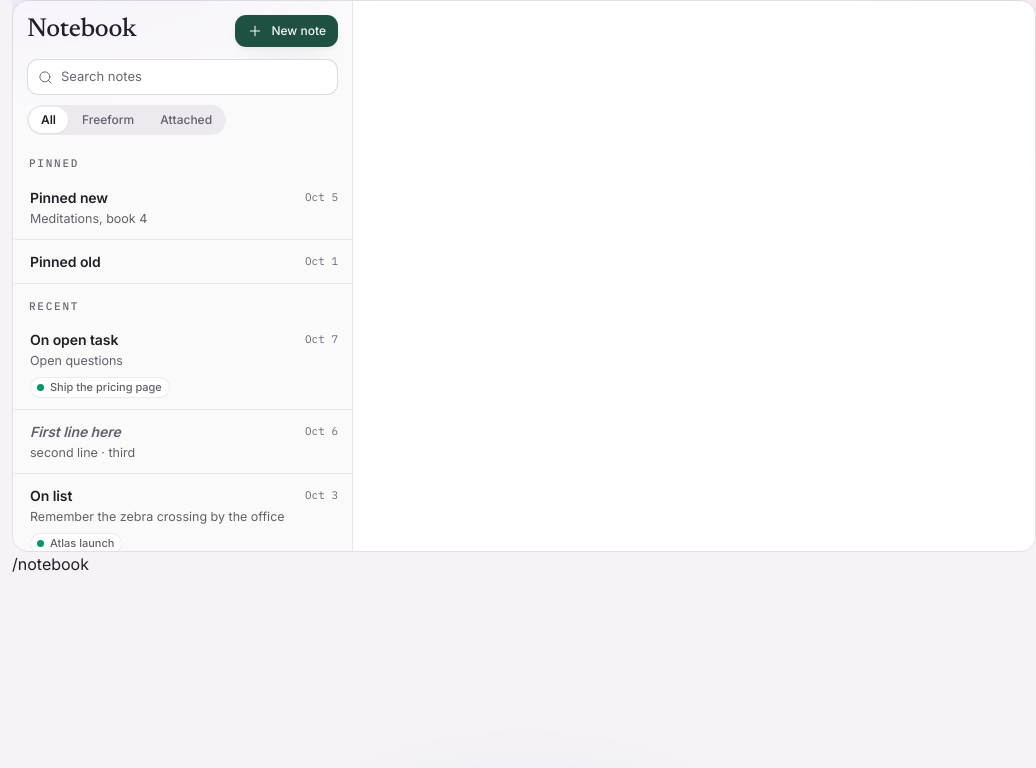
Test: Notebook — list › filters with the All · Freeform · Attached segment, composed with search
Expected: the heading "Notebook" is shown, [27,18,136,44]
Expected: the button with test id "note-row" is shown, [13,176,352,240]
Click the tab "Freeform". click: [108, 120]
box: [70,107,146,133]
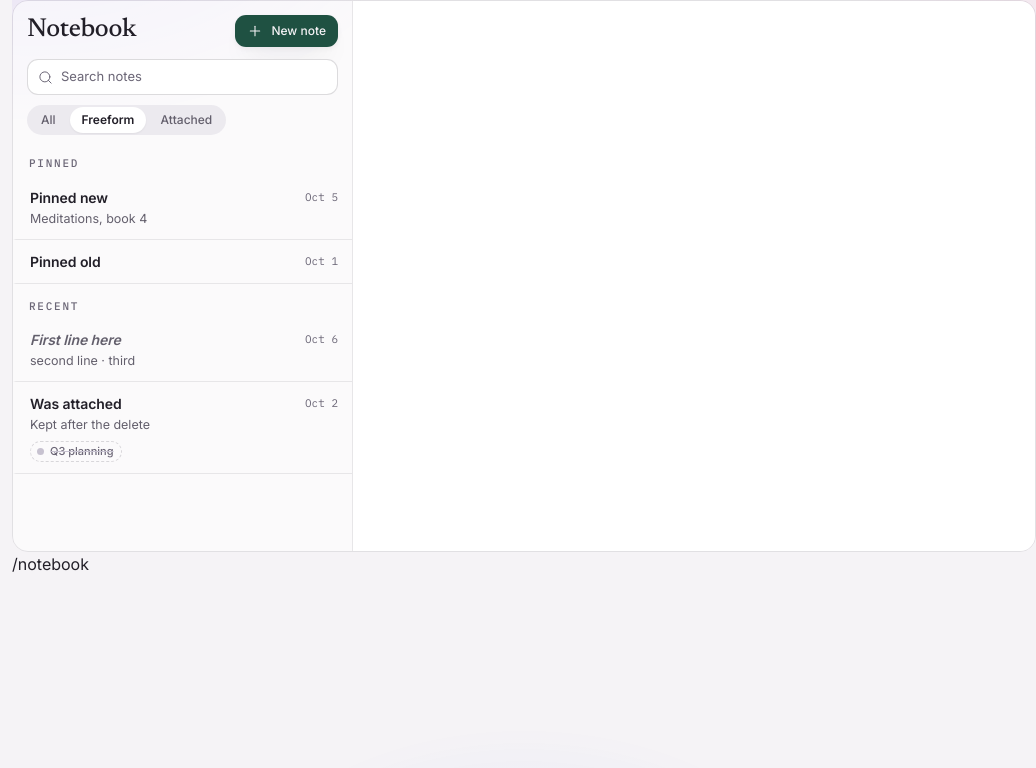
Click the tab "Attached". click: [186, 120]
box: [148,107,224,133]
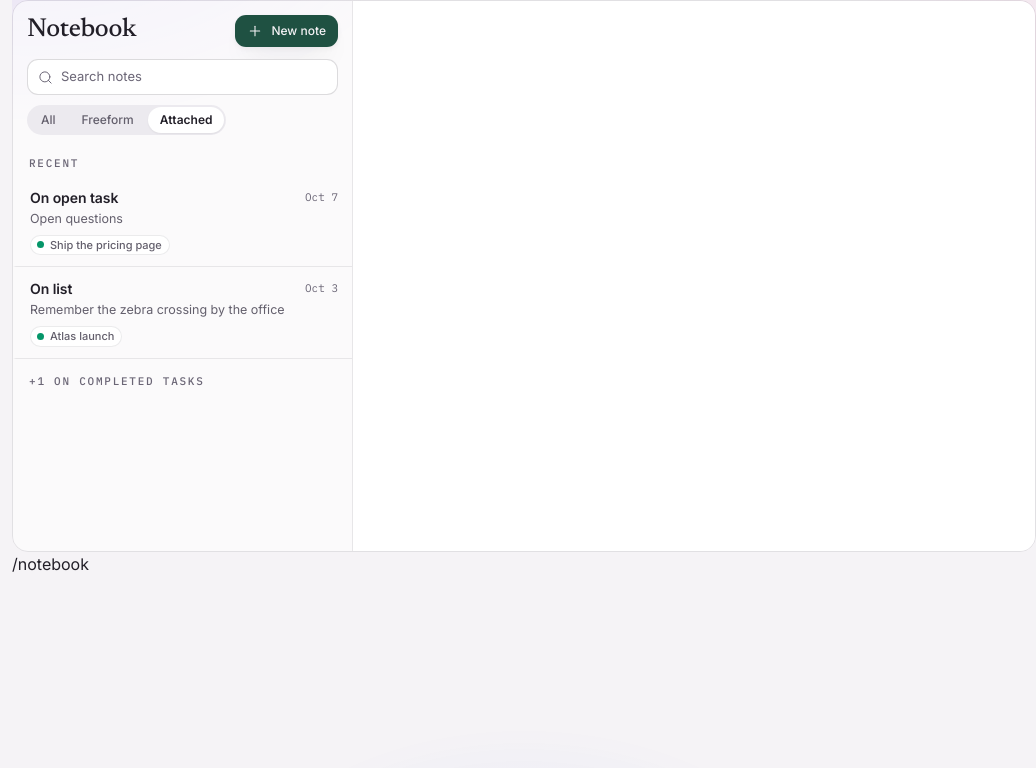
Expected: the button "+1 on completed tasks" is shown, [13,359,352,403]
Type "zebra" into the search field labelled "Search notes". click: [194, 77]
box: [61,67,327,87]
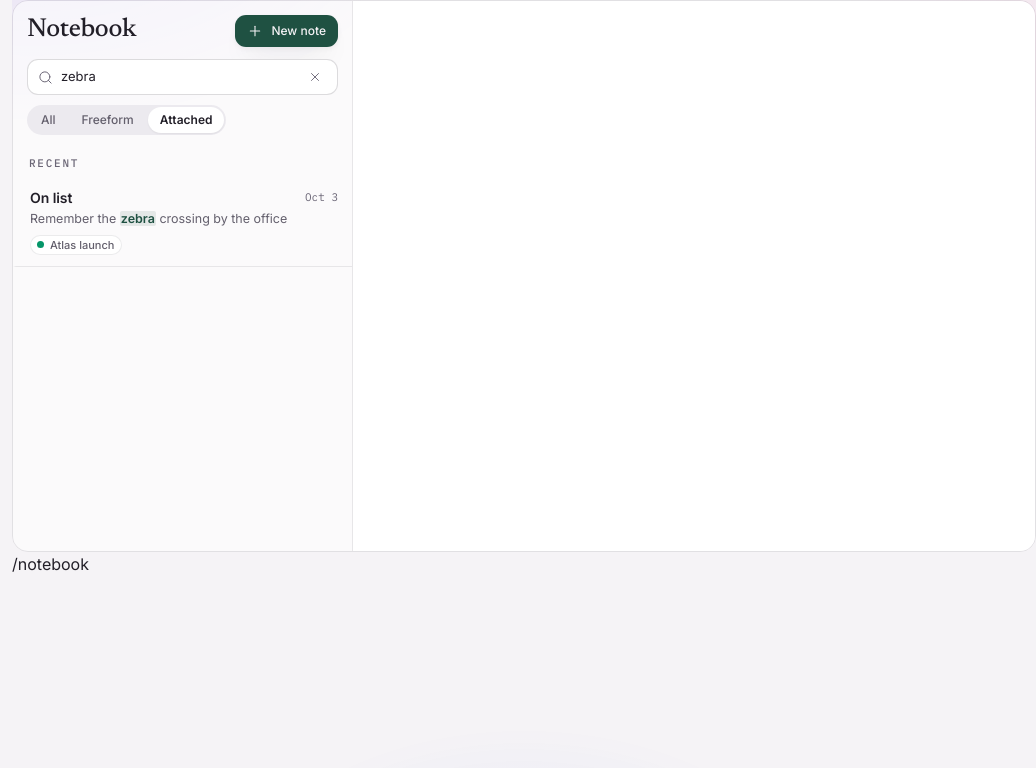
Click the tab "Freeform". click: [108, 120]
box: [70,107,146,133]
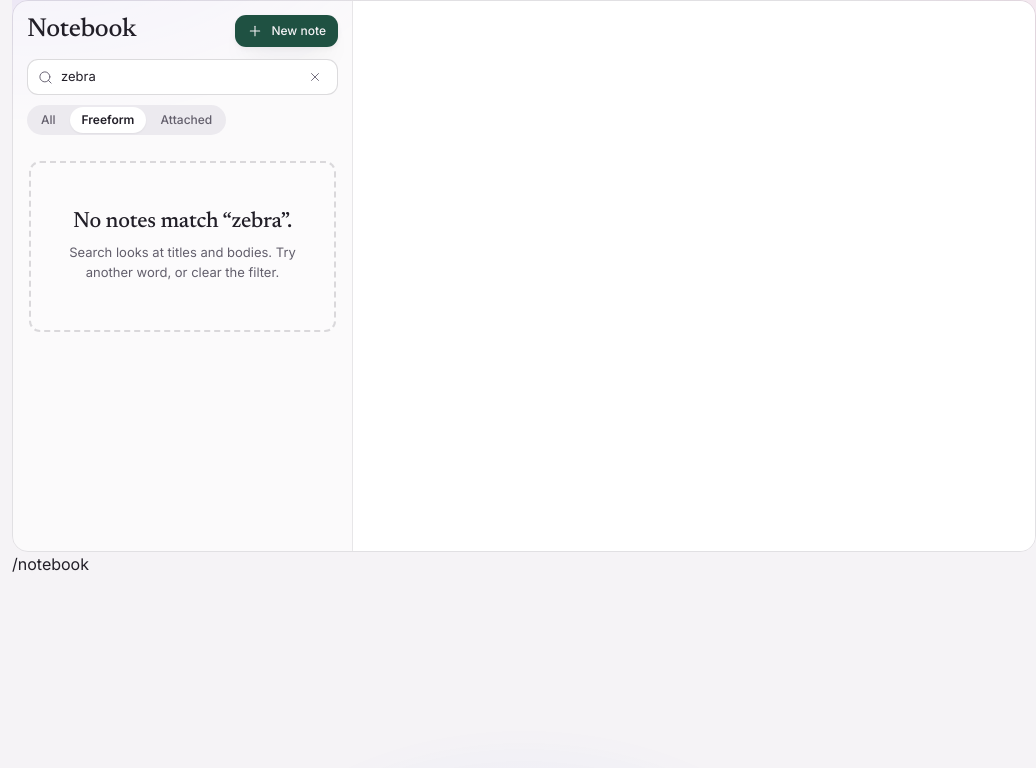
Expected: no buttons with test id "note-row" are shown
